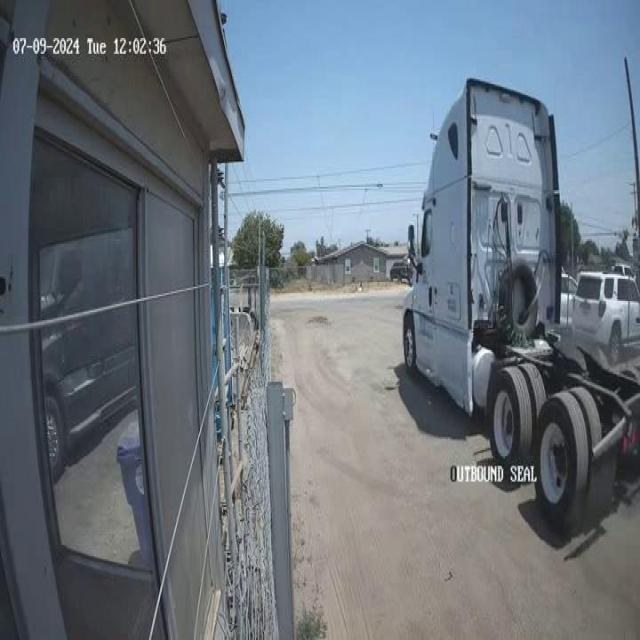BOBTAIL: (399, 76, 638, 540)
